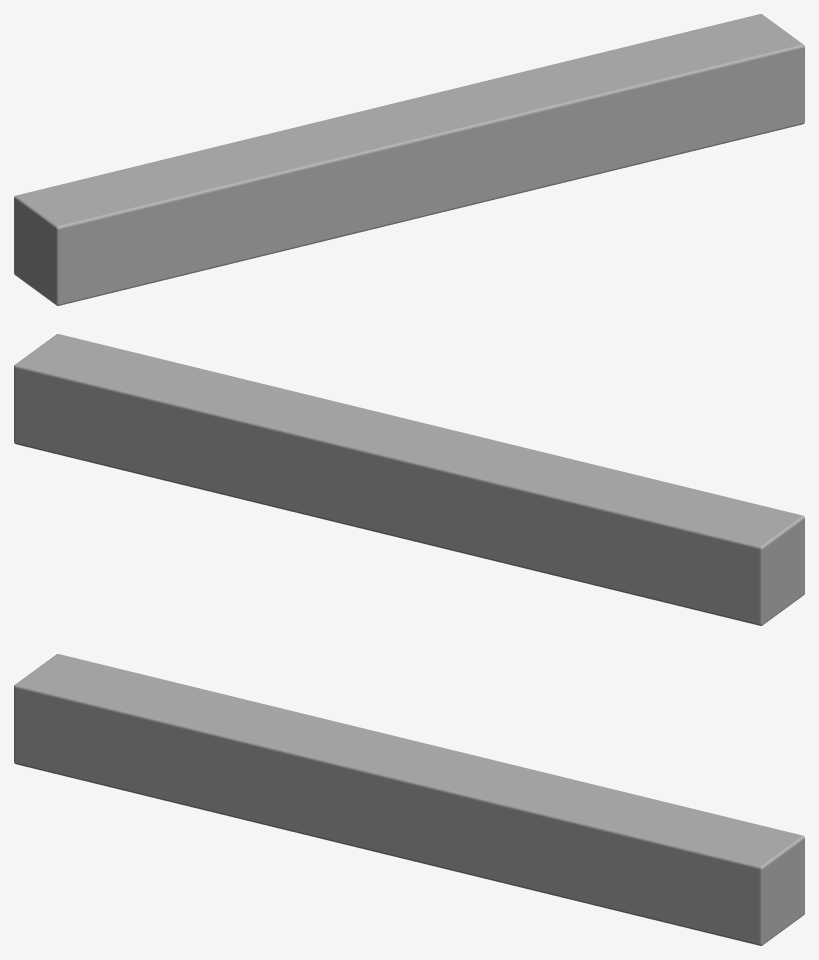
Rendered from AirVentShaft-I.fbx.
The picture shows the model from 3 angles, top to bottom: view 1: azimuth 30°, elevation 25°; view 2: azimuth 150°, elevation 25°; view 3: azimuth 330°, elevation 25°; orthographic projection.
Visible parts, largest first — view 1: Cube.001; view 2: Cube.001; view 3: Cube.001.
Part boxes in pixels (x1,y1,x2,y2): Cube.001: [14, 14, 804, 305]; Cube.001: [14, 334, 804, 625]; Cube.001: [14, 654, 804, 945].
Size of the model in its own units: 1302 by 132 by 132.
Materials: 1 (1 with a texture image).
